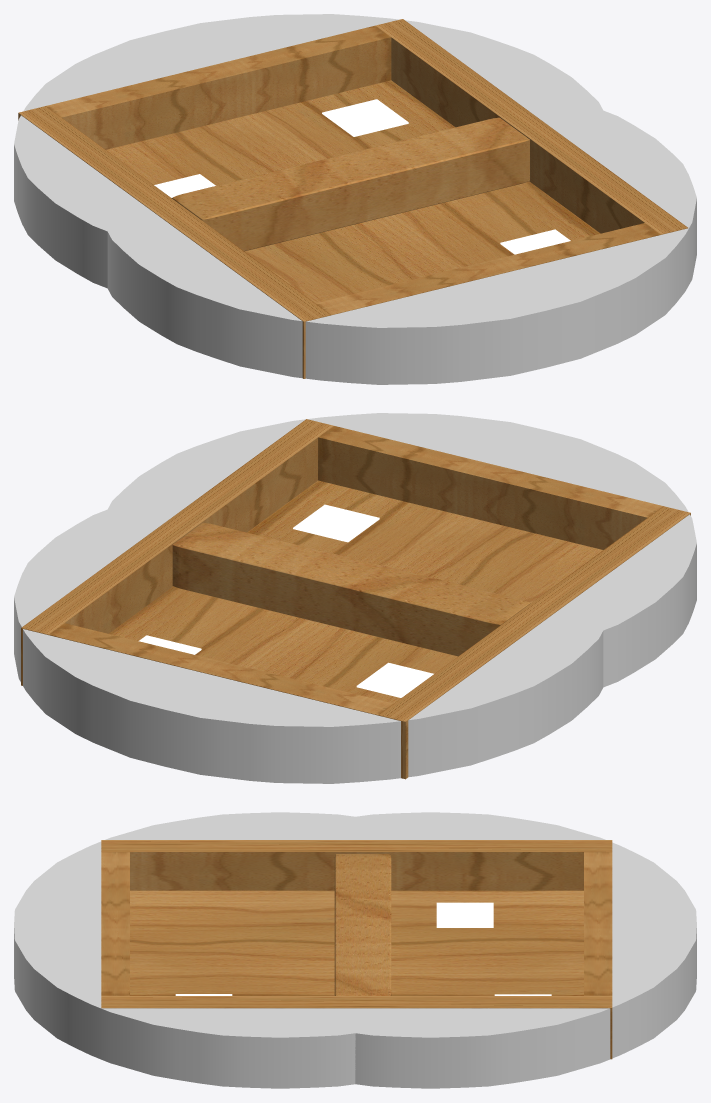
3 views of the same model, one above another, from view 1: azimuth 30°, elevation 25°; view 2: azimuth 150°, elevation 25°; view 3: azimuth 270°, elevation 25° (orthographic). The views are drawn at different scales.
Parts seen in each view (by area): view 1: Wall_Out_line_cylinder001, Floor_1, Wall_Out_line_cylinder, Wall_Out_line__2 (×2), Wall_In_line__3, Wall_Out_line__3, Wall_Out_line__1, StartPoint_1, ClearPoint_1, JumpPoint; view 2: Wall_Out_line_cylinder, Floor_1, Wall_Out_line_cylinder001, Wall_In_line__3, Wall_Out_line__1, Wall_Out_line__3, Wall_Out_line__2 (×2), ClearPoint_1, JumpPoint; view 3: Floor_1, Wall_Out_line_cylinder001, Wall_Out_line_cylinder, Wall_Out_line__2 (×2), Wall_In_line__3, Wall_Out_line__3, Wall_Out_line__1, JumpPoint.
Part boxes in pixels (box(x1,y1,x2,y2)): Wall_Out_line_cylinder001: box(107, 110, 696, 384); Floor_1: box(106, 80, 600, 303); Wall_Out_line_cylinder: box(14, 14, 603, 288); Wall_Out_line__2 (×2): box(18, 25, 391, 378); Wall_In_line__3: box(172, 117, 529, 251); Wall_Out_line__3: box(375, 19, 687, 234); Wall_Out_line__1: box(316, 223, 660, 315); StartPoint_1: box(322, 99, 408, 136); ClearPoint_1: box(500, 229, 570, 254); JumpPoint: box(154, 174, 215, 197); Wall_Out_line_cylinder: box(14, 509, 603, 783); Floor_1: box(109, 480, 603, 703); Wall_Out_line_cylinder001: box(107, 413, 696, 687); Wall_In_line__3: box(172, 522, 530, 656); Wall_Out_line__1: box(318, 426, 663, 549); Wall_Out_line__3: box(21, 419, 333, 685); Wall_Out_line__2 (×2): box(48, 506, 690, 779); ClearPoint_1: box(293, 504, 379, 542); JumpPoint: box(356, 662, 433, 697); Floor_1: box(130, 890, 583, 995); Wall_Out_line_cylinder001: box(14, 812, 355, 1088); Wall_Out_line_cylinder: box(355, 812, 696, 1088); Wall_Out_line__2 (×2): box(101, 840, 612, 995); Wall_In_line__3: box(334, 854, 391, 995); Wall_Out_line__3: box(101, 996, 612, 1059); Wall_Out_line__1: box(101, 852, 129, 995); JumpPoint: box(436, 902, 493, 927).
Bounding box in the file's own units: 3761 × 400 × 4813.
5 materials, 2 textured.
